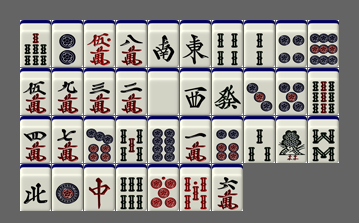0m: (84, 20, 115, 67)
0p: (148, 164, 179, 211)
0s: (180, 164, 211, 211)
1m: (180, 116, 211, 163)
1p: (52, 164, 83, 211)
1s: (276, 116, 307, 163)
1z: (180, 20, 211, 67)
2m: (116, 68, 147, 115)
2p: (52, 20, 83, 67)
2s: (244, 20, 275, 67)
2z: (148, 20, 179, 67)
3m: (84, 68, 115, 115)
3p: (244, 68, 275, 115)
3s: (244, 116, 275, 163)
3z: (180, 68, 211, 115)
4m: (20, 116, 51, 163)
4p: (276, 20, 307, 67)
4s: (212, 20, 243, 67)
4z: (20, 164, 51, 211)
5m: (20, 68, 51, 115)
5p: (276, 68, 307, 115)
5s: (116, 116, 147, 163)
5z: (148, 68, 179, 115)
6m: (212, 164, 243, 211)
6p: (212, 116, 243, 163)
6s: (116, 164, 147, 211)
6z: (212, 68, 243, 115)
7m: (52, 116, 83, 163)
7p: (84, 116, 115, 163)
7s: (20, 20, 51, 67)
7z: (84, 164, 115, 211)
8m: (116, 20, 147, 67)
8p: (148, 116, 179, 163)
8s: (308, 116, 339, 163)
9m: (52, 68, 83, 115)
9p: (308, 20, 339, 67)
9s: (308, 68, 339, 115)
